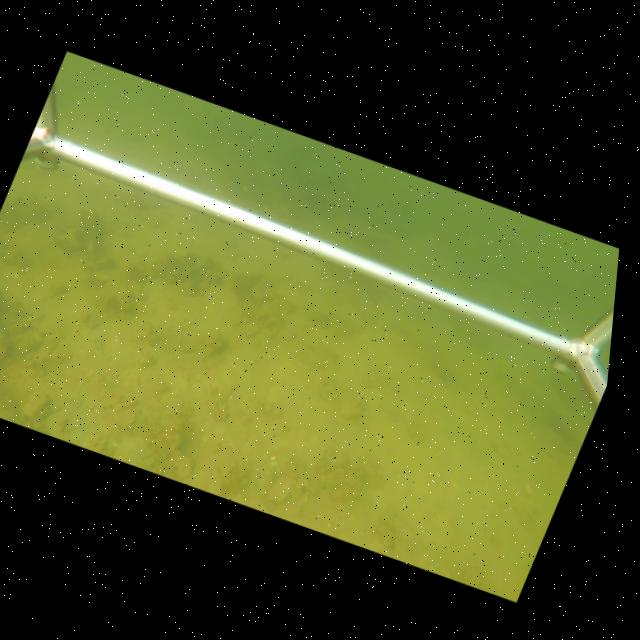Oyster-Indeterminate: (266, 473, 297, 507)
